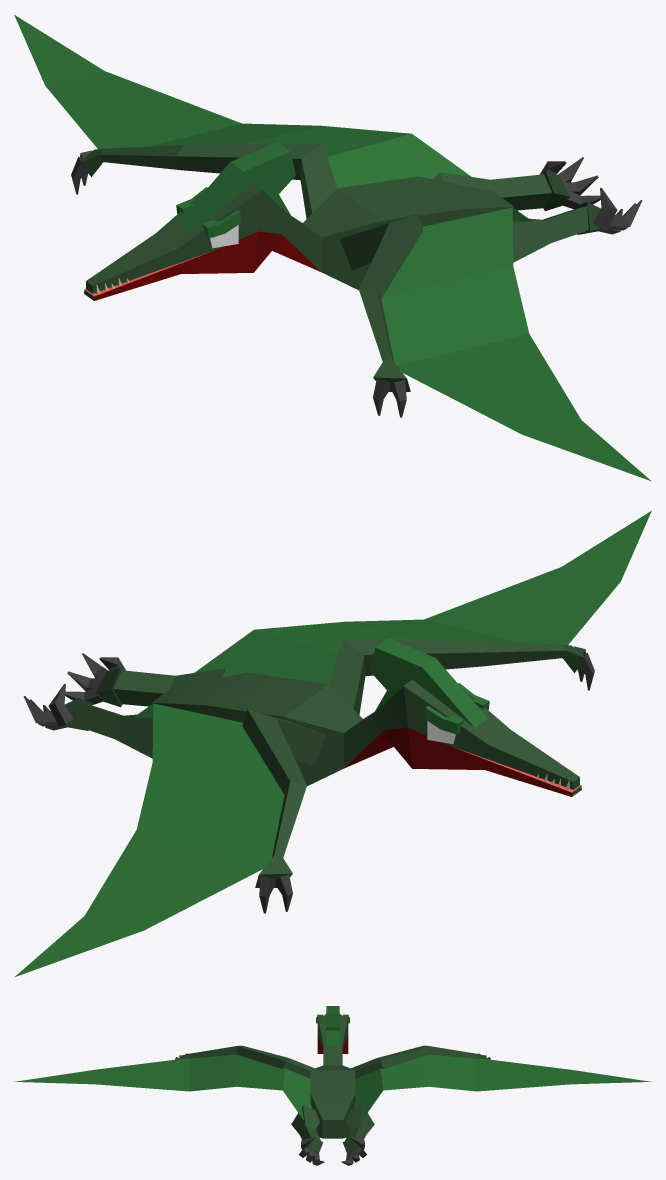
File: pterodactyl.obj
3 views of the same model, one above another, from view 1: azimuth 30°, elevation 25°; view 2: azimuth 150°, elevation 25°; view 3: azimuth 270°, elevation 25° (orthographic). The views are drawn at different scales.
Parts seen in each view (by area): view 1: LeftWing, RightWing, Head, Torso, LeftLeg, RightLeg, RightFoot, LeftFoot; view 2: RightWing, LeftWing, Head, Torso, RightLeg, LeftLeg, LeftFoot, RightFoot; view 3: LeftWing, RightWing, Torso, Head, LeftLeg, RightLeg, RightFoot, LeftFoot.
Part boxes in pixels (bbox=[...]): LeftWing: bbox=[340, 207, 651, 481]; RightWing: bbox=[14, 14, 471, 218]; Head: bbox=[84, 142, 321, 300]; Torso: bbox=[303, 176, 514, 290]; LeftLeg: bbox=[513, 206, 588, 262]; RightLeg: bbox=[433, 172, 552, 210]; RightFoot: bbox=[540, 157, 600, 211]; LeftFoot: bbox=[573, 188, 642, 234]; RightWing: bbox=[14, 703, 325, 977]; LeftWing: bbox=[194, 510, 651, 714]; Head: bbox=[344, 638, 581, 796]; Torso: bbox=[151, 672, 362, 786]; RightLeg: bbox=[77, 702, 152, 758]; LeftLeg: bbox=[113, 668, 232, 706]; LeftFoot: bbox=[65, 653, 125, 707]; RightFoot: bbox=[23, 684, 92, 730]; LeftWing: bbox=[14, 1045, 314, 1120]; RightWing: bbox=[351, 1045, 651, 1120]; Torso: bbox=[310, 1065, 355, 1138]; Head: bbox=[316, 1006, 349, 1065]; LeftLeg: bbox=[291, 1105, 320, 1140]; RightLeg: bbox=[345, 1105, 374, 1140]; RightFoot: bbox=[341, 1136, 366, 1165]; LeftFoot: bbox=[299, 1136, 324, 1165].
Bounding box in the file's own units: 11.09 × 3.31 × 23.2.
